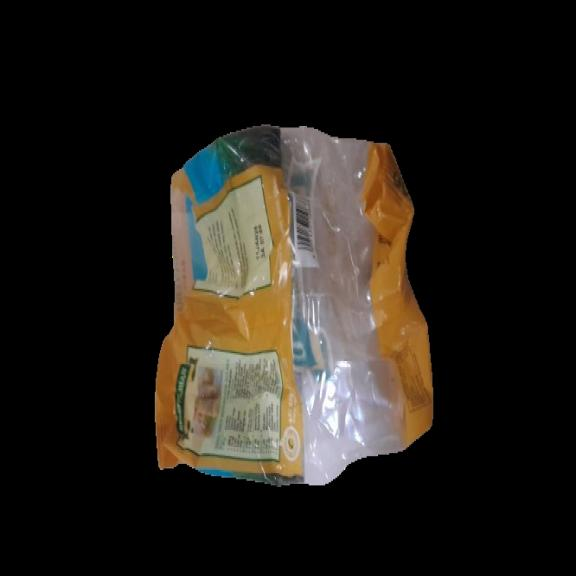Plastik: (155, 114, 438, 493)
